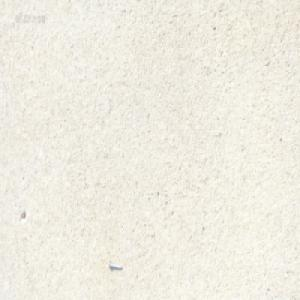Nail: (107, 260, 122, 270)
